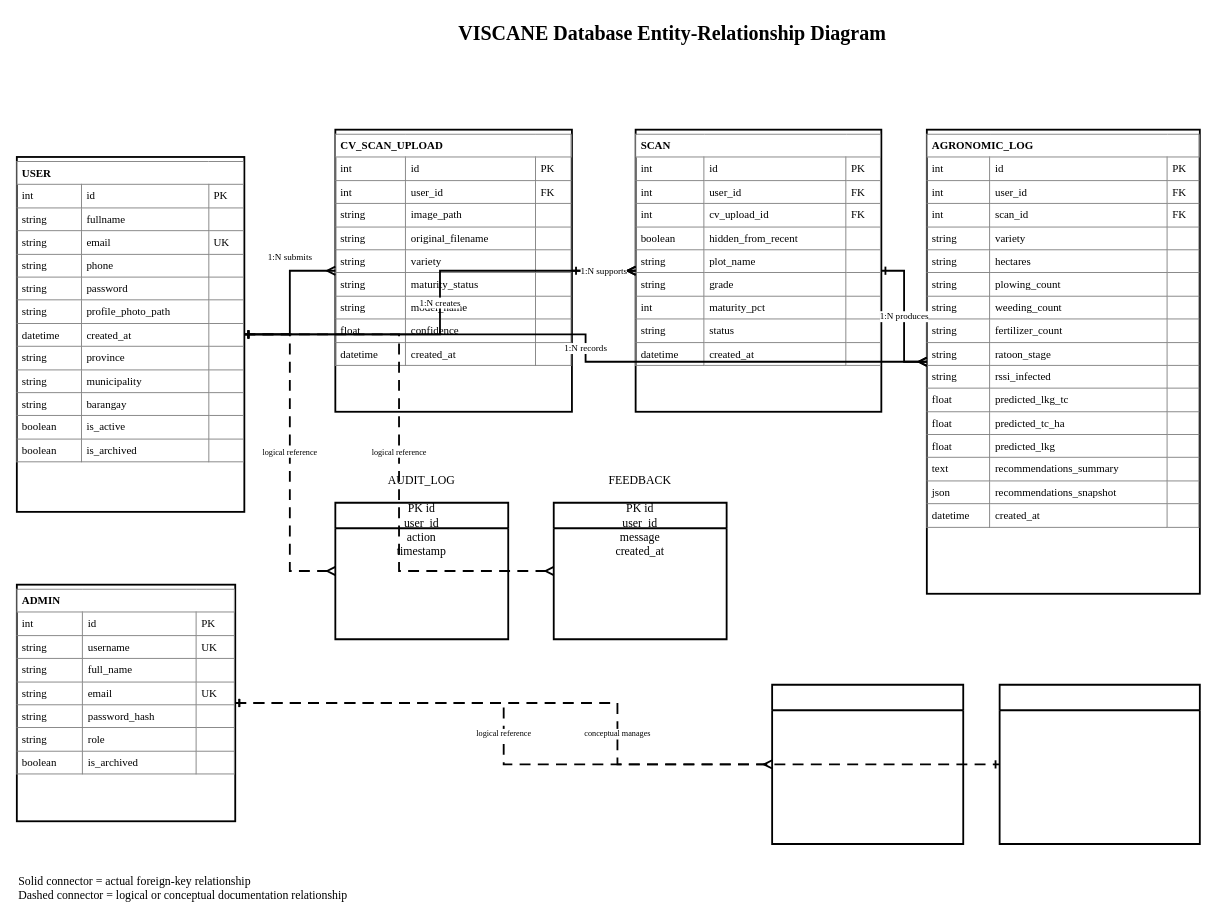
Image size: 1216x923. Some labels were removed from this diagram. Here are the shapes that lost their labels. From the top down, the centre of each, then its label:
the point at 867,763: NOTIFICATION PK id title message created_at created_by
the point at 1099,763: SYSTEM_CONFIG PK id system_name maintenance_mode model_filename updated_at
